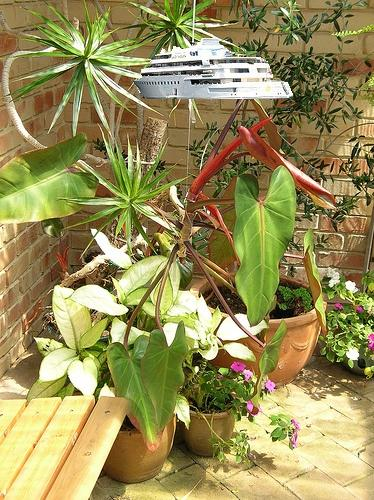tampered: (134, 39, 293, 99)
